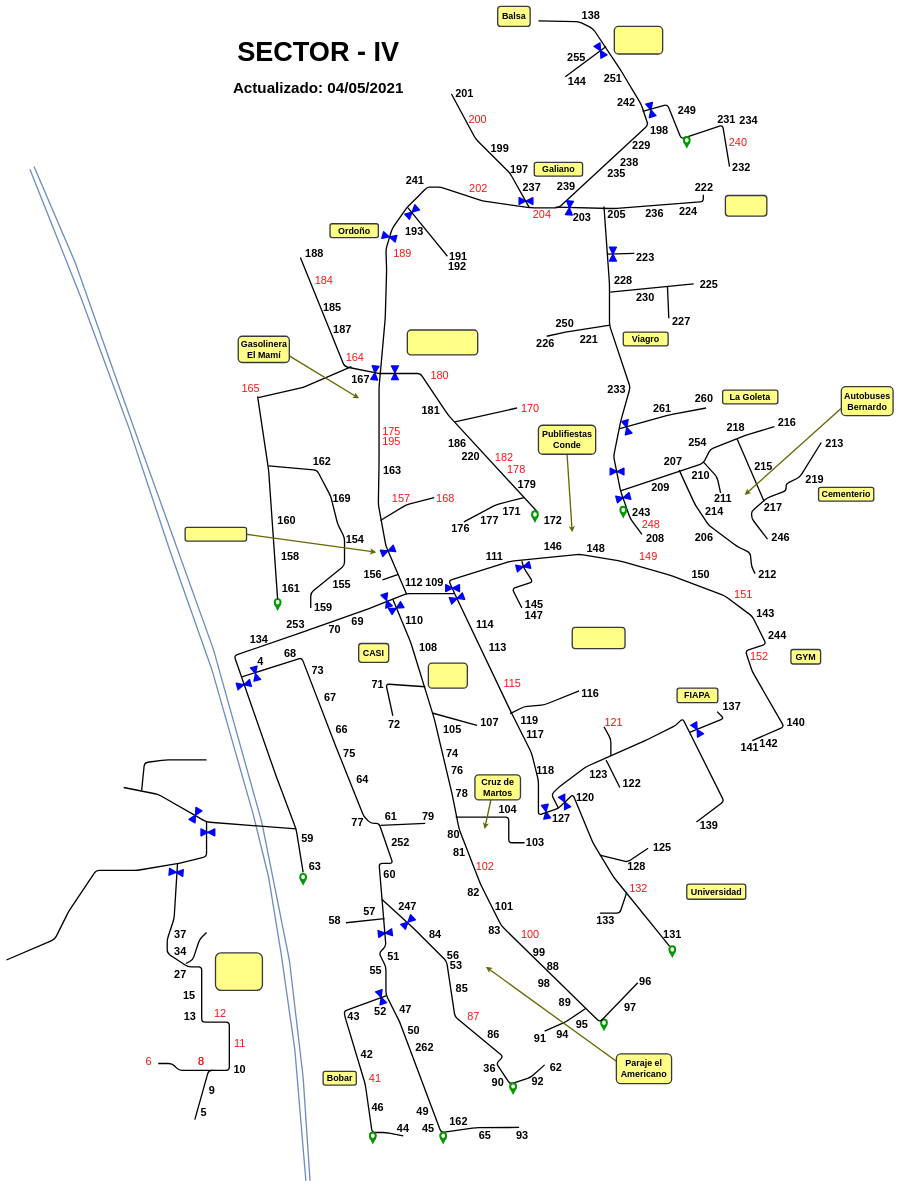
The diagram is 899 pixels wide and 1187 high, and some of its shapes have lost their labels. Each missing label, with the centre of its shape:
"Hospital Virgen del Mar" goes at (442,342).
"Hípica" goes at (746,206).
"La Cañada" goes at (598,638).
"Los Lagartos" goes at (215,534).
"Los Picos" goes at (448,675).
"Parque Andarax Norte" goes at (239,971).
"Ventosa rambla" goes at (638,40).
